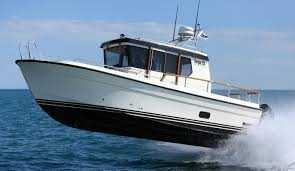kayak: (15, 1, 268, 145)
